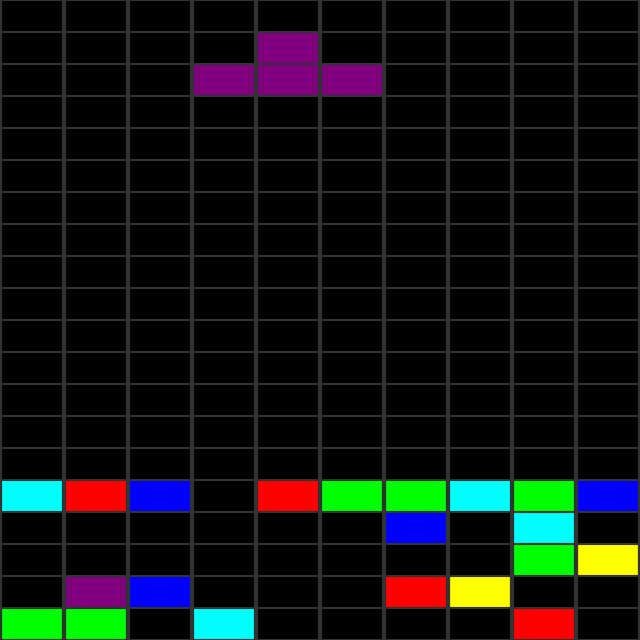Tetrimino_J: (194, 31, 384, 94)
